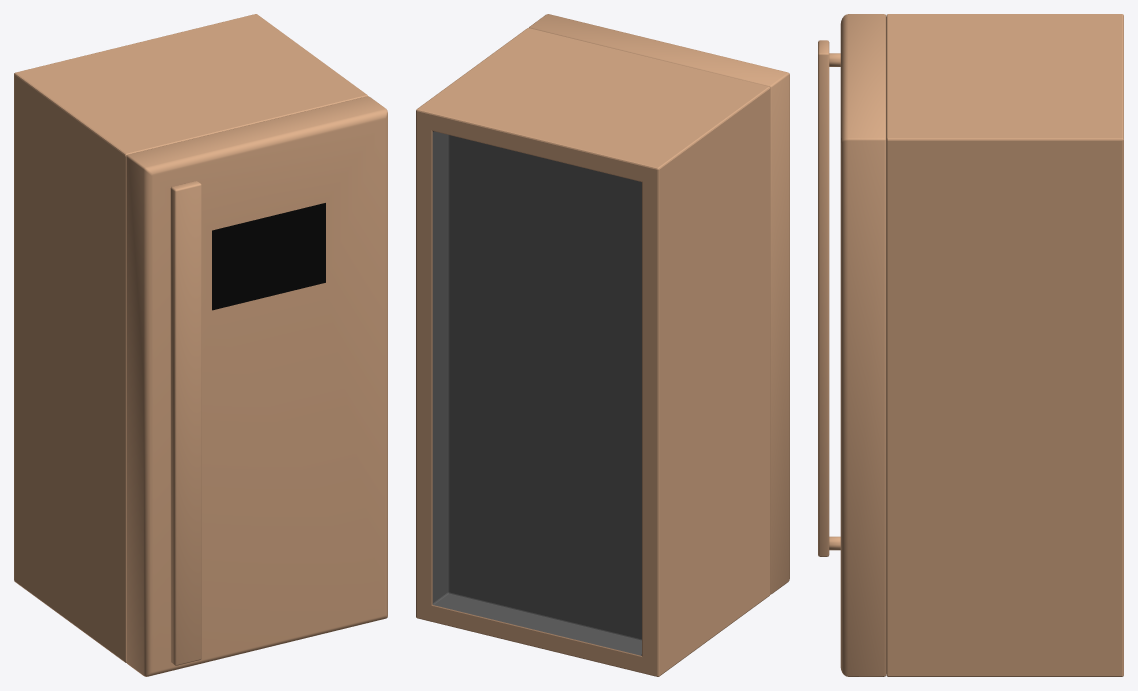
File: SmartFridge.gltf
The picture shows the model from 3 angles, left to right: view 1: azimuth 30°, elevation 25°; view 2: azimuth 150°, elevation 25°; view 3: azimuth 270°, elevation 25°; orthographic projection. The views are drawn at different scales.
Parts seen in each view (by area): view 1: Cube.001, Cube; view 2: Cube, Cube.001; view 3: Cube, Cube.001.
Part boxes in pixels (x1,y1,x2,y2): Cube.001: [126, 96, 387, 676]; Cube: [14, 14, 367, 662]; Cube: [416, 28, 770, 676]; Cube.001: [529, 14, 789, 594]; Cube: [886, 14, 1123, 676]; Cube.001: [818, 14, 885, 676].
Size of the model in its own units: 1 by 2 by 1.03.
